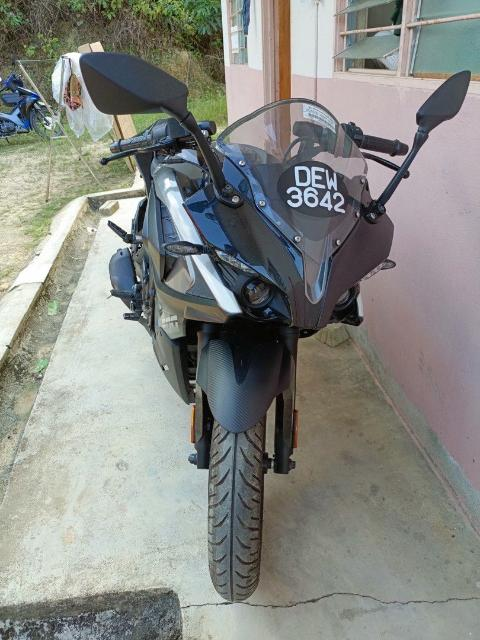License_Plate: (280, 159, 354, 221)
motorcycle: (80, 51, 471, 603), (2, 74, 65, 145)
